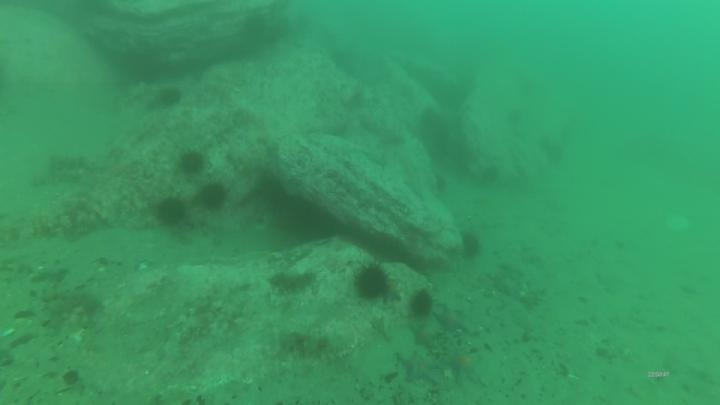echinus: (350, 259, 394, 303), (154, 194, 189, 231), (409, 289, 443, 325), (200, 179, 233, 212), (458, 228, 485, 263), (176, 148, 207, 178), (239, 12, 269, 38), (156, 85, 185, 109)
holothurian: (281, 331, 336, 362), (266, 269, 322, 297)
starfish: (393, 349, 445, 387), (444, 344, 484, 384), (433, 303, 471, 337), (409, 322, 444, 352)
